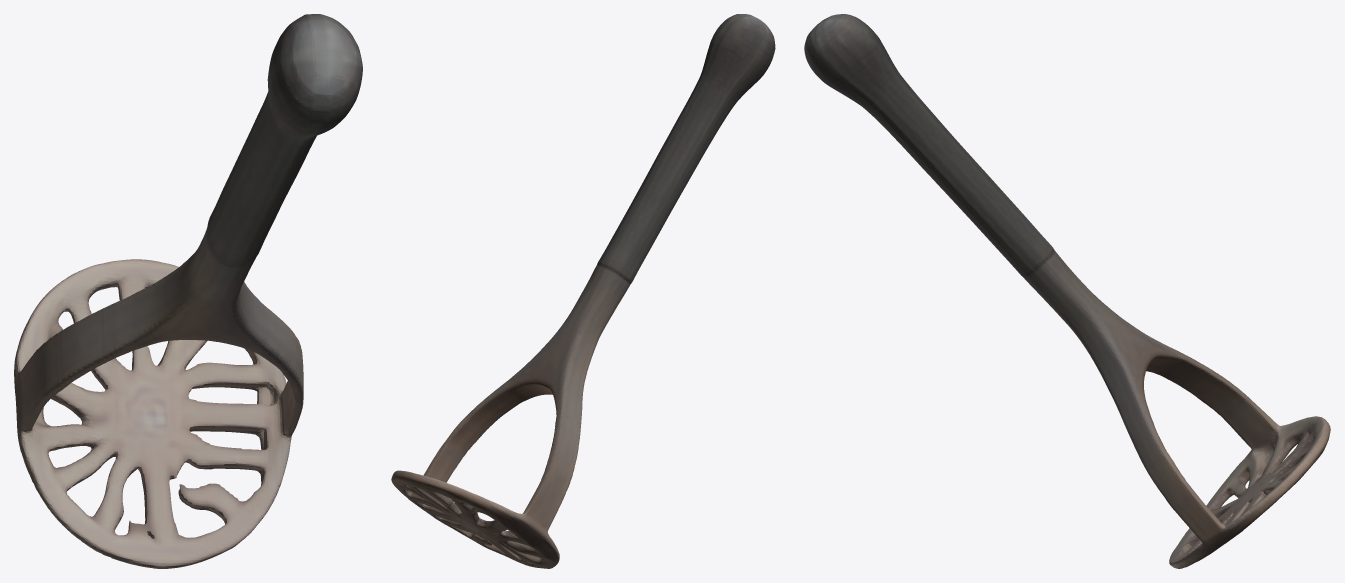
File: frame_0054_source_000054_object.glb
3 views of the same model, side by side, from view 1: azimuth 30°, elevation 25°; view 2: azimuth 150°, elevation 25°; view 3: azimuth 270°, elevation 25° (orthographic). The views are drawn at different scales.
Visible parts, largest first — view 1: world; view 2: world; view 3: world.
Part boxes in pixels (bbox=[...]): world: bbox=[14, 14, 362, 568]; world: bbox=[391, 14, 775, 568]; world: bbox=[804, 14, 1330, 568].
Size of the model in its own units: 0.0909 by 0.2149 by 0.2036.
